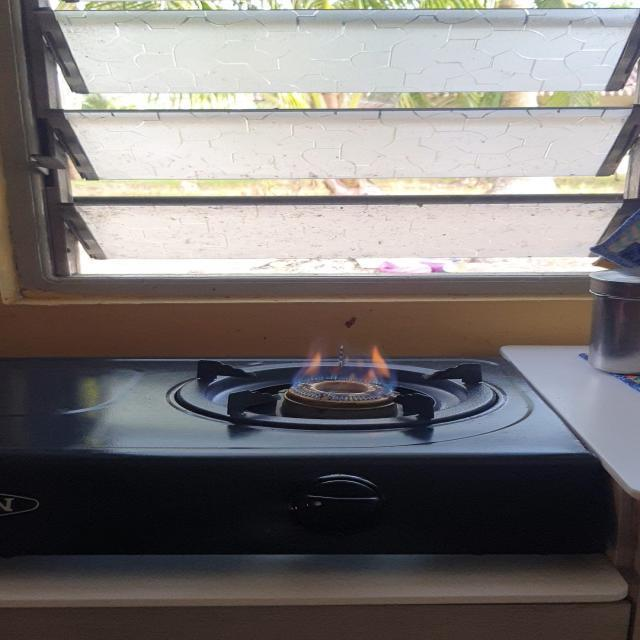smoke: (288, 330, 398, 402)
